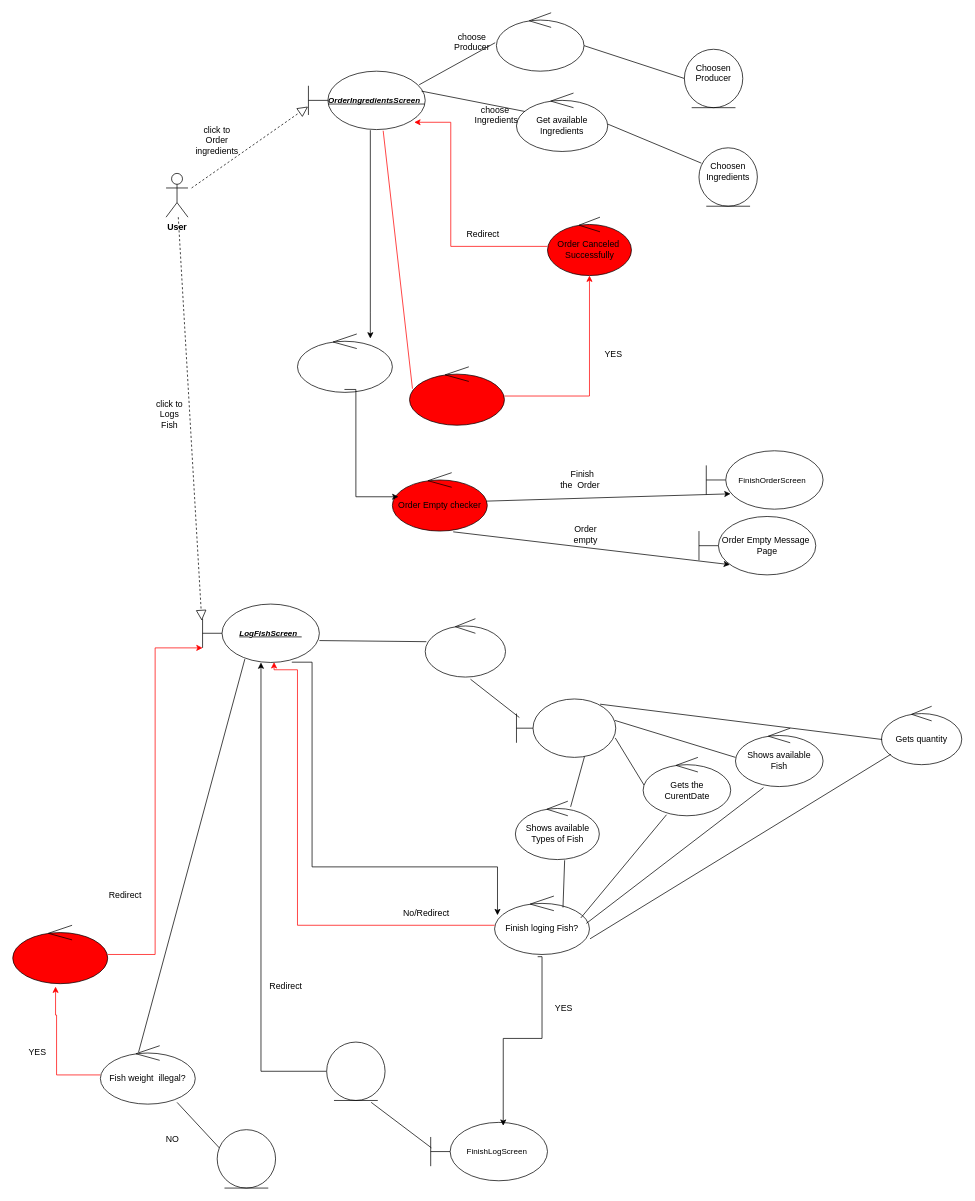
The diagram is 975 pixels wide and 1201 high, and some of its shapes have lost their labels. Here are the shapes that lost their labels. From the top down, the centre of each, then its label:
point 540,41: Get available Producers
point 344,362: Confirmation of order
point 456,395: Cancel Order?
point 465,647: Show
point 566,727: Option Screen
point 60,954: Error message: FIsh is illegal to catch
point 355,1070: FishingReport
point 246,1158: Weight of Fish
